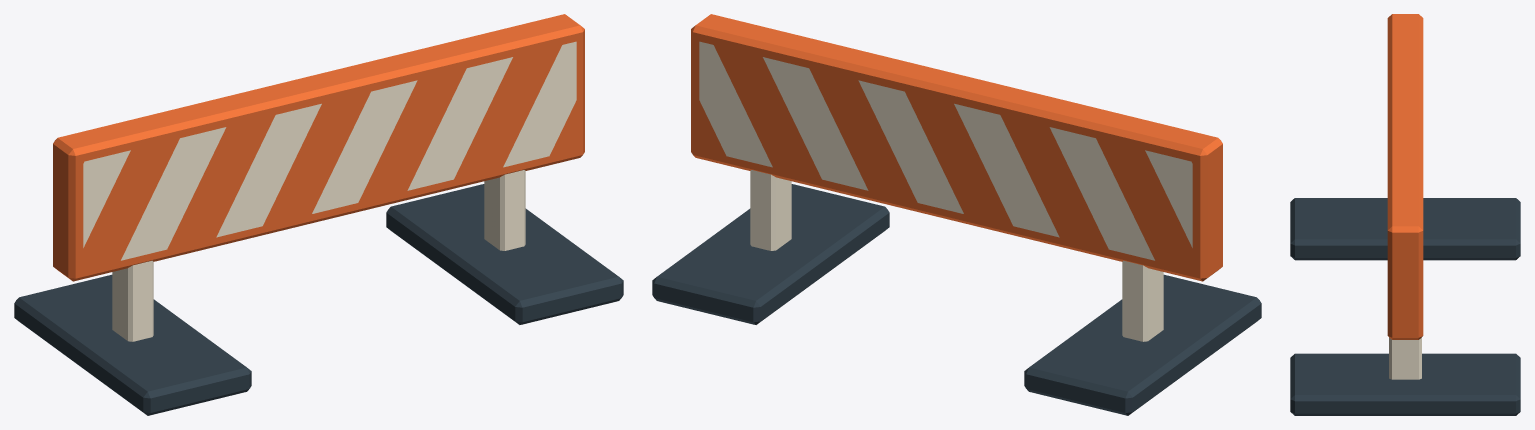
Rendered from roadblock.glb.
The picture shows the model from 3 angles, left to right: view 1: azimuth 30°, elevation 25°; view 2: azimuth 150°, elevation 25°; view 3: azimuth 270°, elevation 25°; orthographic projection. The views are drawn at different scales.
Visible parts, largest first — view 1: roadblock; view 2: roadblock; view 3: roadblock.
Boxes of the visible parts, box(x1,y1,x2,y2) form: roadblock: box(14, 14, 623, 415); roadblock: box(652, 14, 1261, 415); roadblock: box(1290, 14, 1520, 415).
Size of the model in its own units: 2 by 0.85 by 0.9.
